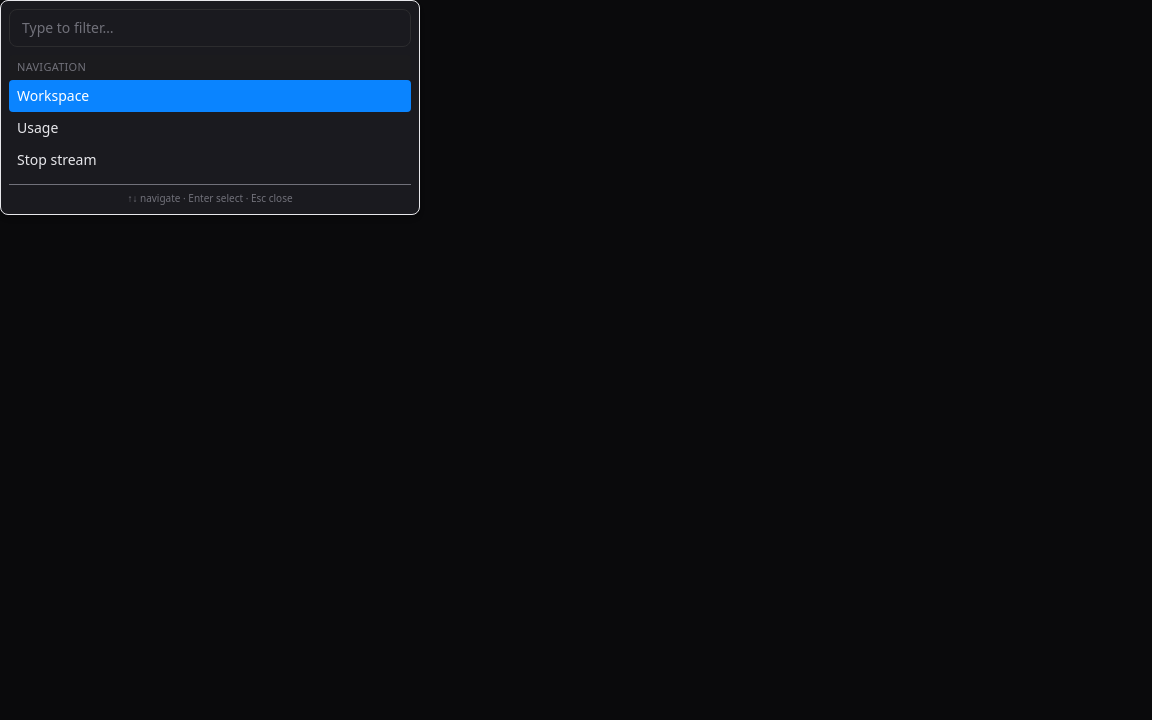
Test: QuickPick rendering › shows the empty state for hopeless queries
Type "zzzzzz" into the dropdown with test id "quickpick-input" at (210, 28), box [9,9,411,47]
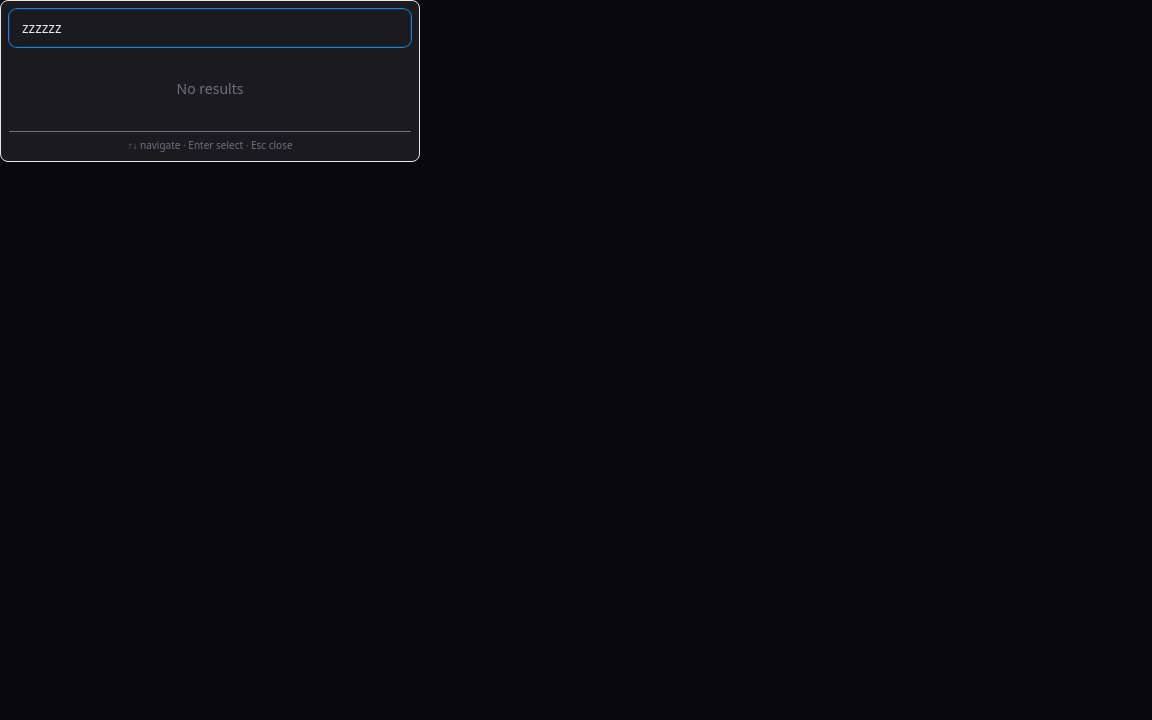
Expected: the message reads "No results", [176,79,243,98]
Expected: the option with test id "quickpick-item" is gone
